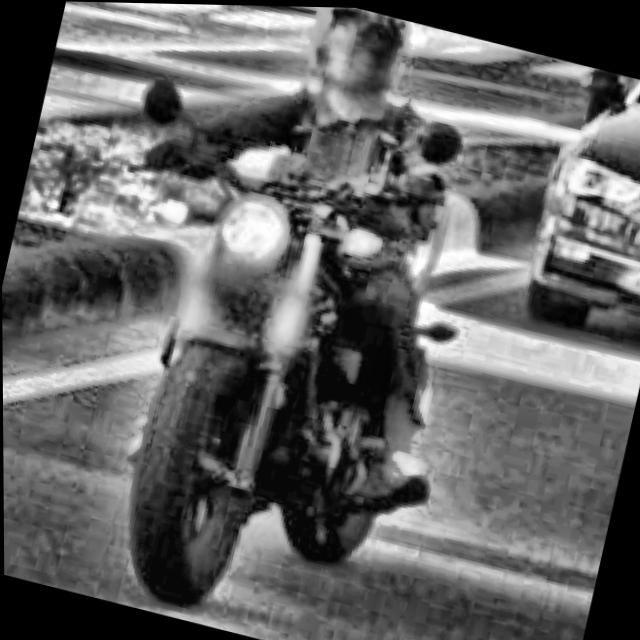motorcycle: (23, 35, 531, 640)
